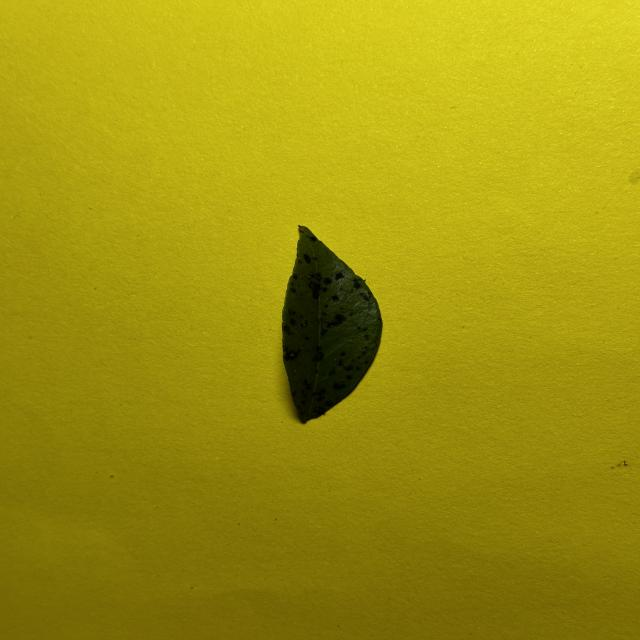sooty_mold: (282, 227, 382, 422)
